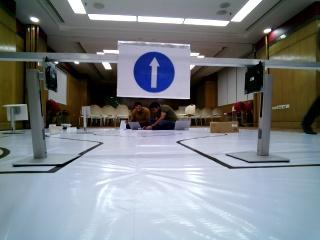straight: (120, 40, 188, 95)
